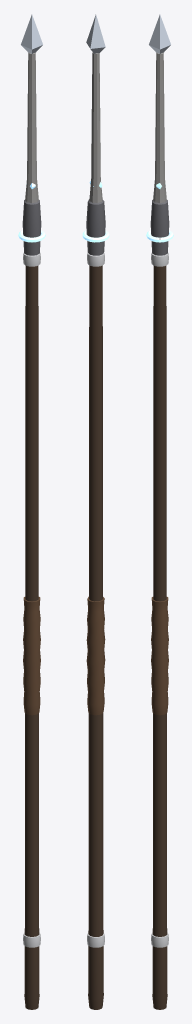
Rendered from frostspike.glb.
3 views of the same model, side by side, from view 1: azimuth 90°, elevation 25°; view 2: azimuth 150°, elevation 25°; view 3: azimuth 270°, elevation 25° (orthographic).
Visible parts, largest first — view 1: frostspike; view 2: frostspike; view 3: frostspike.
Boxes of the visible parts, <box> form: frostspike: <box>18,14,45,1009</box>; frostspike: <box>82,14,109,1009</box>; frostspike: <box>146,14,173,1009</box>.
Size of the model in its own units: 0.0431 by 1.75 by 0.0432.
